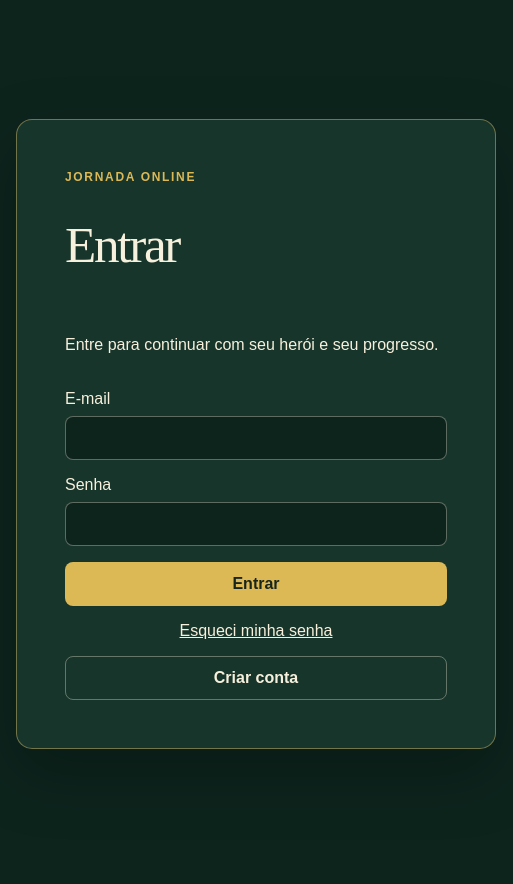
Scenario: Auth sign in contract › rejects a malformed email before sending a registration request
Click the button "Criar conta". click: (256, 678)
box: [65,656,447,700]
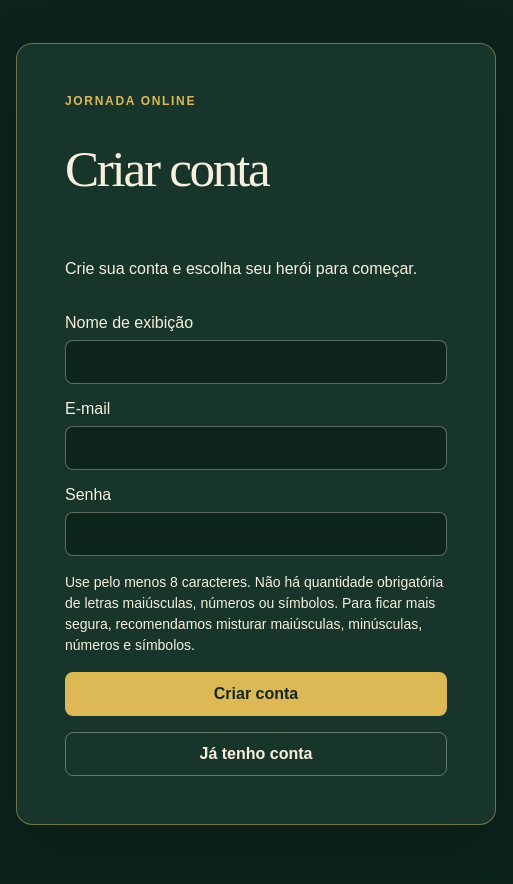
Type "Ana" into the field labelled "Nome de exibição". click: (256, 362)
box: [65,340,447,384]
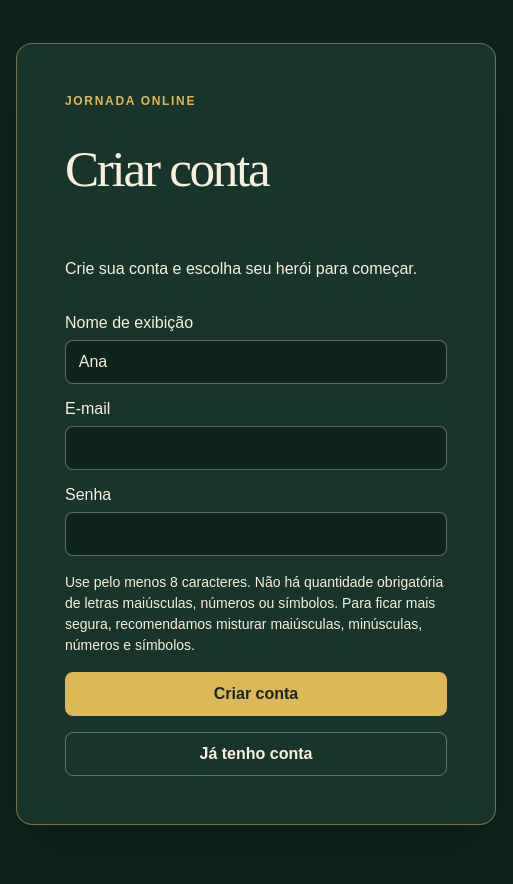
Type "ana-invalid" into the field labelled "E-mail". click: (256, 448)
box: [65,426,447,470]
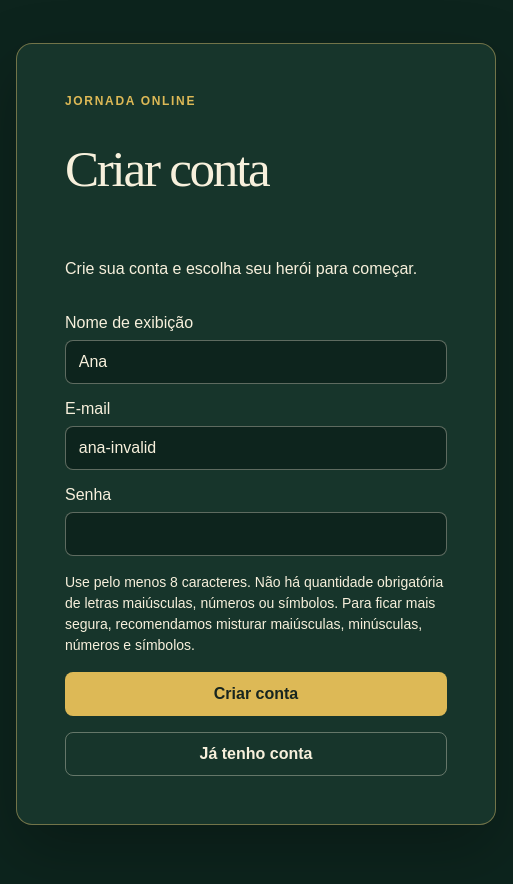
Type "senha-segura" into the password field labelled "Senha". click: (256, 534)
box: [65,512,447,556]
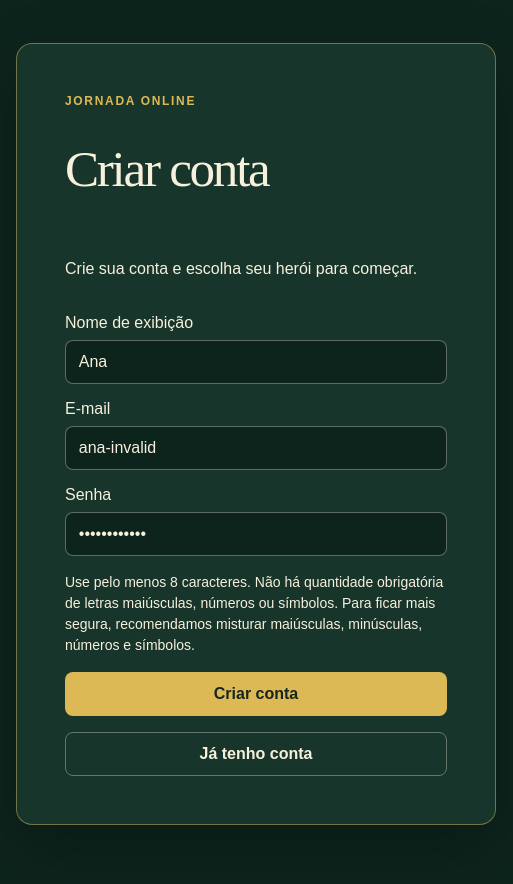
Click the button "Criar conta". click: (256, 694)
box: [65,672,447,716]
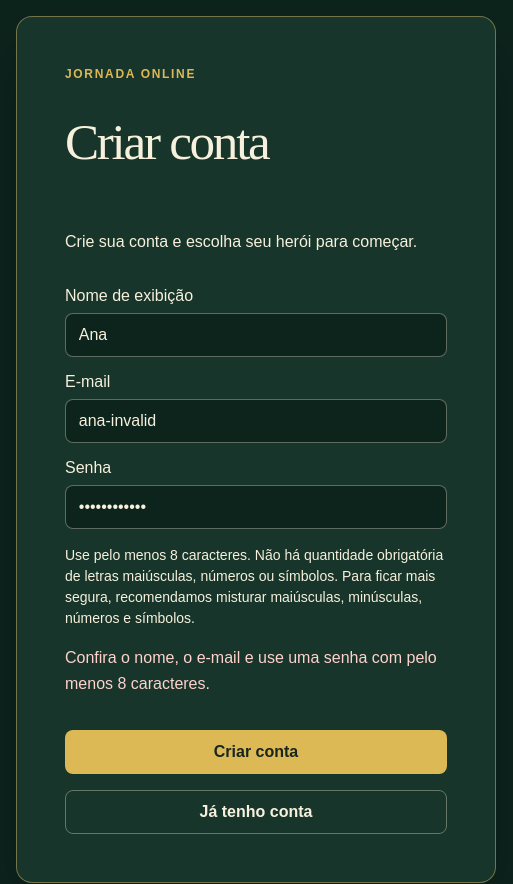
Expected: the message "Confira o nome, o e-mail e use uma senha com pelo menos 8 caracteres." is shown, [65,645,447,698]
